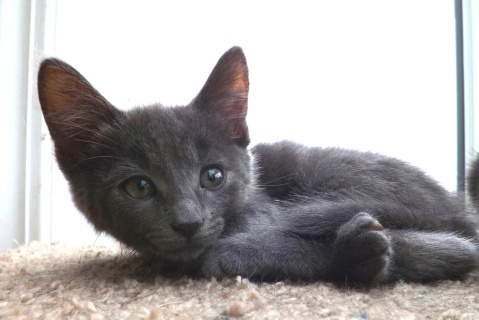Cat: (33, 44, 479, 289)
